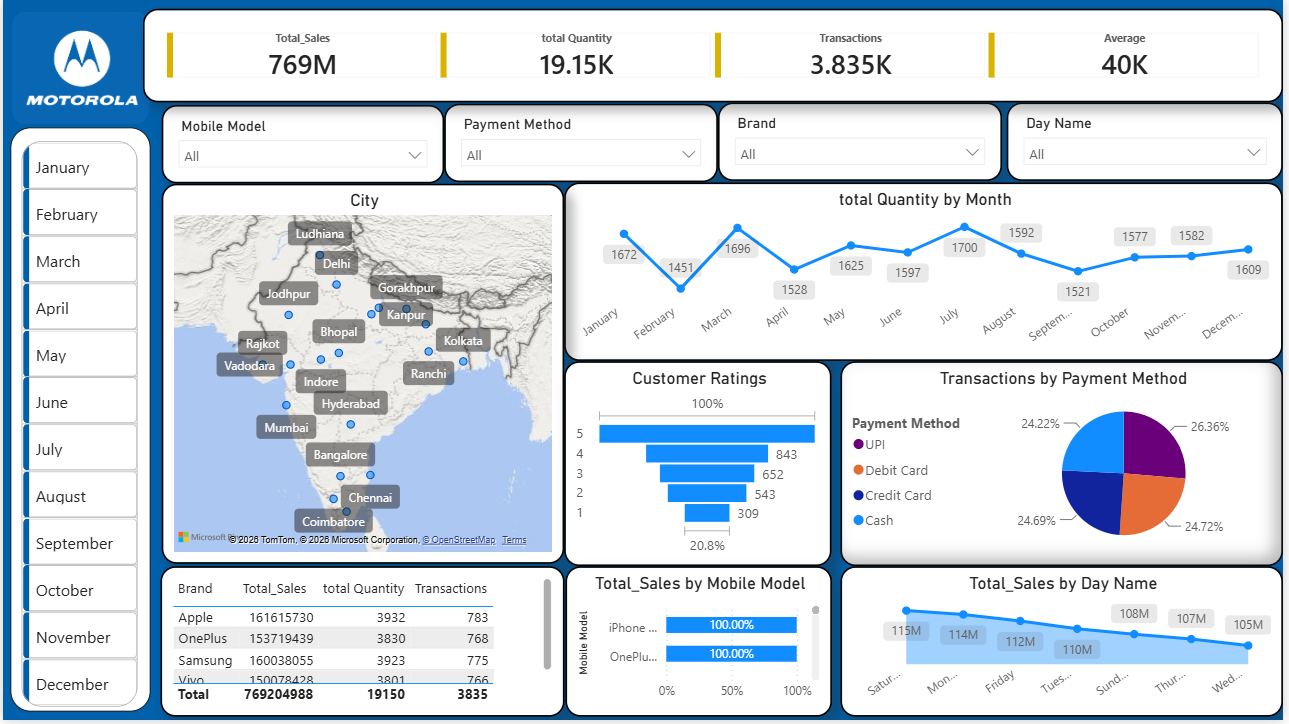

Layout of this report page (visuals, bound fields, positions):
{"tool":"powerbi","page":{"name":"Page 1","canvas":[1280,720],"ordinal":0},"visuals":[{"type":"shape","box":[7.5,127.5,140,583.8],"z":0},{"type":"image","box":[7.5,8.8,140,118.8],"z":1000},{"type":"advancedSlicerVisual","fields":{"Values":["Sales.Date.Variation.Date Hierarchy.Month"]},"box":[13.8,136.2,126.2,583.8],"z":2000},{"type":"slicer","fields":{"Values":["Sales.Mobile Model"]},"box":[158.8,105,282.5,78.8],"z":3000},{"type":"slicer","fields":{"Values":["Sales.Payment Method"]},"box":[441.2,103.8,273.8,78.8],"z":4000},{"type":"slicer","fields":{"Values":["Sales.Brand"]},"box":[715,102.5,283.8,78.8],"z":5000},{"type":"slicer","fields":{"Values":["Sales.Day Name"]},"box":[1003.8,102.5,276.2,78.8],"z":6000},{"type":"lineChart","fields":{"Y":["Sales.total Quantity"],"Category":["Sales.Date.Variation.Date Hierarchy.Month"]},"box":[561.2,182.5,718.8,178.8],"z":7000},{"type":"map","fields":{"Category":["Sales.City"]},"box":[158.8,183.8,402.5,380],"z":8000},{"type":"funnel","title":"Customer Ratings","fields":{"Y":["CountNonNull(Sales.Customer Ratings)"],"Category":["Sales.Customer Ratings"]},"box":[561.2,361.2,267.5,205],"z":9000},{"type":"pieChart","fields":{"Category":["Sales.Payment Method"],"Y":["Sales.Transactions"]},"box":[837.5,361.2,442.5,205],"z":10000},{"type":"tableEx","fields":{"Values":["Sales.Brand","Sales.Total_Sales","Sales.total Quantity","Sales.Transactions"]},"box":[157.5,566.2,403.8,150],"z":11000},{"type":"hundredPercentStackedBarChart","fields":{"Y":["Sales.Total_Sales"],"Category":["Sales.Mobile Model"]},"box":[562.5,566.2,266.2,150],"z":12000},{"type":"lineChart","fields":{"Category":["Sales.Day Name"],"Y":["Sales.Total_Sales"]},"box":[837.5,566.2,442.5,150],"z":13000},{"type":"cardVisual","fields":{"Data":["Sales.Total_Sales","Sales.total Quantity","Sales.Transactions","Sales.Average"]},"box":[140,8.8,1140,93.8],"z":14000}]}

Visuals, with their boxes in screenshot pixels (x1, y1, x2, y2), scaled from the page's 1280x720 canvas onto the 1289x724 screenshot:
shape: x1=8, y1=128, x2=149, y2=715
image: x1=8, y1=9, x2=149, y2=128
advancedSlicerVisual - Sales.Date.Variation.Date Hierarchy.Month: x1=14, y1=137, x2=141, y2=723
slicer - Sales.Mobile Model: x1=160, y1=106, x2=444, y2=185
slicer - Sales.Payment Method: x1=444, y1=104, x2=720, y2=184
slicer - Sales.Brand: x1=720, y1=103, x2=1006, y2=182
slicer - Sales.Day Name: x1=1011, y1=103, x2=1288, y2=182
lineChart - Sales.total Quantity x Sales.Date.Variation.Date Hierarchy.Month: x1=565, y1=184, x2=1288, y2=363
map - Sales.City: x1=160, y1=185, x2=565, y2=567
"Customer Ratings" funnel: x1=565, y1=363, x2=835, y2=569
pieChart - Sales.Payment Method x Sales.Transactions: x1=843, y1=363, x2=1288, y2=569
tableEx - Sales.Brand x Sales.Total_Sales: x1=159, y1=569, x2=565, y2=720
hundredPercentStackedBarChart - Sales.Total_Sales x Sales.Mobile Model: x1=566, y1=569, x2=835, y2=720
lineChart - Sales.Day Name x Sales.Total_Sales: x1=843, y1=569, x2=1288, y2=720
cardVisual - Sales.Total_Sales x Sales.total Quantity: x1=141, y1=9, x2=1288, y2=103
